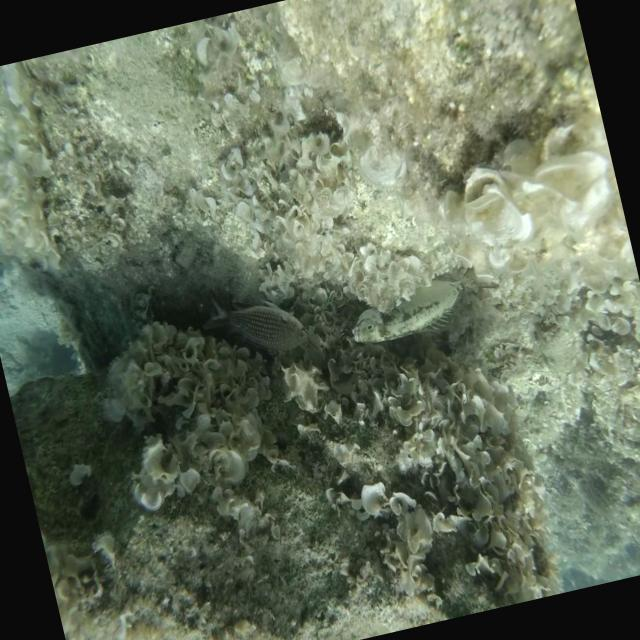Sokar Baligi: (341, 251, 496, 361), (194, 258, 328, 385)
